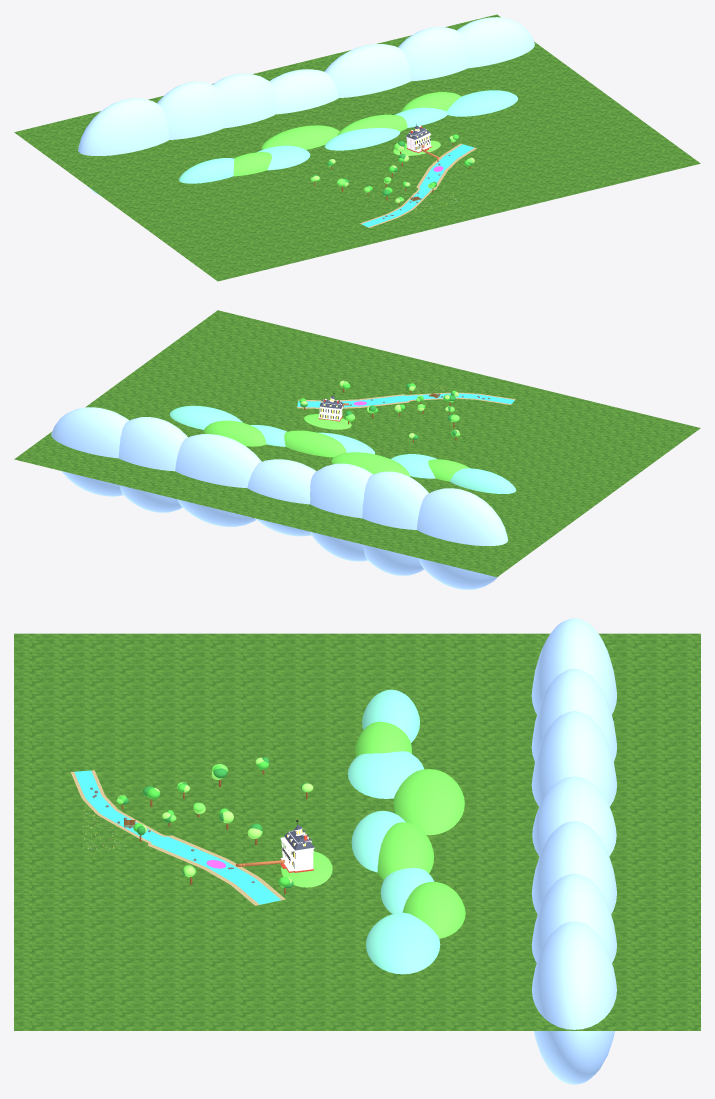
File: prolog.glb
3 renders of one model, top to bottom at view 1: azimuth 30°, elevation 25°; view 2: azimuth 150°, elevation 25°; view 3: azimuth 270°, elevation 25°, orthographic. The views are drawn at different scales.
Parts seen in each view (by area): view 1: P_Boden.001, P_Berg0.001, P_Berg4.001, P_Berg1.001, P_Berg5.001, P_Berg6.001, P_Berg2.001, P_Berg3.001, P_Huegel8.001, P_Huegel3.001, P_Huegel4.001, P_Fluss.001 (+7 smaller); view 2: P_Boden.001, P_Berg0.001, P_Berg4.001, P_Berg1.001, P_Berg5.001, P_Berg6.001, P_Berg2.001, P_Berg3.001, P_Huegel5.001, P_Huegel0.001, P_Huegel8.001, P_Huegel7.001 (+8 smaller); view 3: P_Boden.001, P_Berg6.001, P_Berg2.001, P_Berg4.001, P_Berg0.001, P_Berg5.001, P_Berg3.001, P_Huegel3.001, P_Berg1.001, P_Huegel8.001, P_Fluss.001, P_Huegel2.001 (+8 smaller).
Part boxes in pixels (x1=…): P_Boden.001: x1=14, y1=14, x2=700, y2=281; P_Berg0.001: x1=78, y1=98, x2=169, y2=196; P_Berg4.001: x1=324, y1=44, x2=410, y2=97; P_Berg1.001: x1=157, y1=81, x2=223, y2=139; P_Berg5.001: x1=398, y1=27, x2=467, y2=81; P_Berg6.001: x1=457, y1=17, x2=534, y2=68; P_Berg2.001: x1=213, y1=73, x2=276, y2=128; P_Berg3.001: x1=269, y1=69, x2=338, y2=114; P_Huegel8.001: x1=446, y1=90, x2=517, y2=116; P_Huegel3.001: x1=261, y1=125, x2=339, y2=149; P_Huegel4.001: x1=324, y1=128, x2=400, y2=150; P_Fluss.001: x1=362, y1=144, x2=474, y2=227; P_Boden.001: x1=14, y1=310, x2=700, y2=576; P_Berg0.001: x1=417, y1=488, x2=507, y2=589; P_Berg4.001: x1=175, y1=434, x2=261, y2=526; P_Berg1.001: x1=362, y1=471, x2=428, y2=575; P_Berg5.001: x1=118, y1=417, x2=187, y2=512; P_Berg6.001: x1=51, y1=407, x2=128, y2=496; P_Berg2.001: x1=310, y1=463, x2=373, y2=561; P_Berg3.001: x1=247, y1=459, x2=316, y2=536; P_Huegel5.001: x1=284, y1=430, x2=346, y2=457; P_Huegel0.001: x1=450, y1=468, x2=516, y2=493; P_Huegel8.001: x1=169, y1=405, x2=242, y2=429; P_Huegel7.001: x1=203, y1=420, x2=266, y2=446; P_Boden.001: x1=14, y1=633, x2=700, y2=1030; P_Berg6.001: x1=532, y1=921, x2=616, y2=1084; P_Berg2.001: x1=531, y1=711, x2=616, y2=806; P_Berg4.001: x1=532, y1=821, x2=616, y2=914; P_Berg0.001: x1=531, y1=618, x2=616, y2=714; P_Berg5.001: x1=531, y1=873, x2=616, y2=962; P_Berg3.001: x1=532, y1=776, x2=616, y2=856; P_Huegel3.001: x1=393, y1=769, x2=464, y2=835; P_Berg1.001: x1=531, y1=668, x2=616, y2=761; P_Huegel8.001: x1=366, y1=912, x2=440, y2=974; P_Fluss.001: x1=74, y1=770, x2=280, y2=904; P_Huegel2.001: x1=347, y1=751, x2=423, y2=798.
Size of the model in its own units: 260 by 51.68 by 190.
31 materials, 4 textured.
